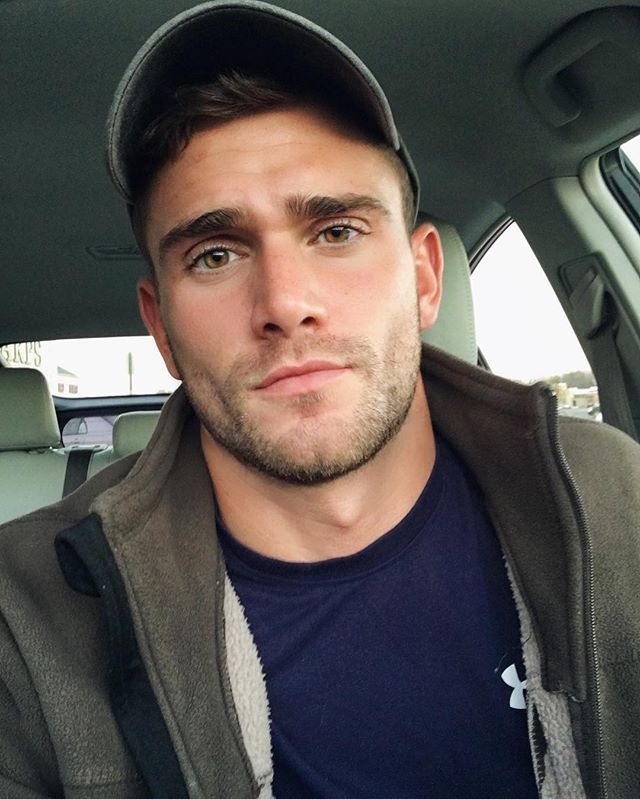person: (1, 1, 640, 799)
